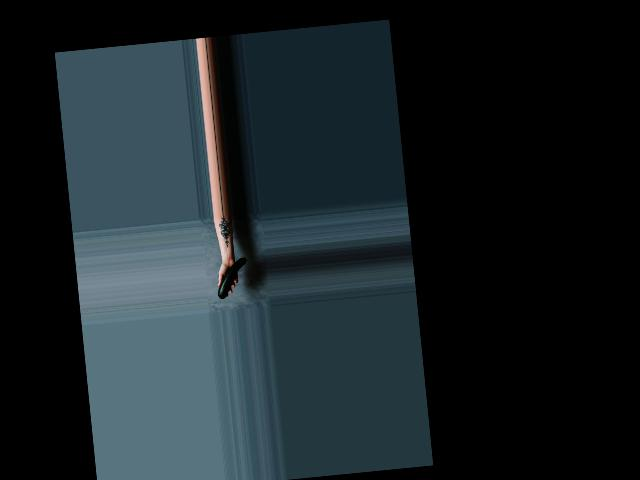cucumber: (215, 257, 250, 299)
